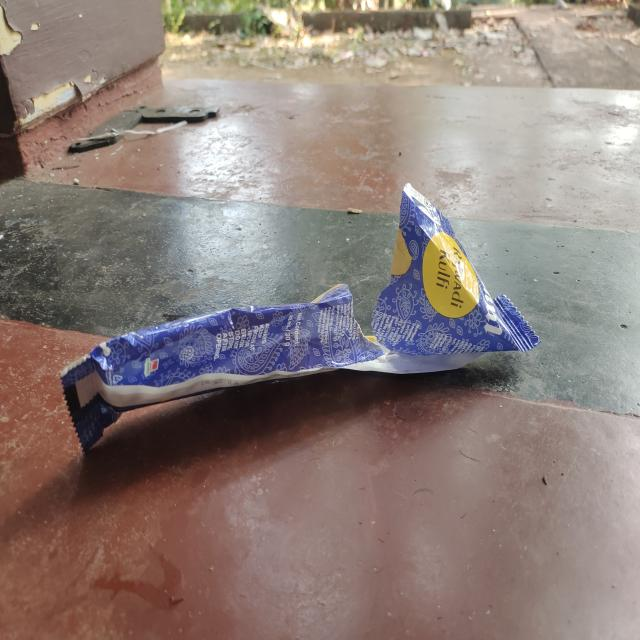plastic: (62, 178, 538, 449)
